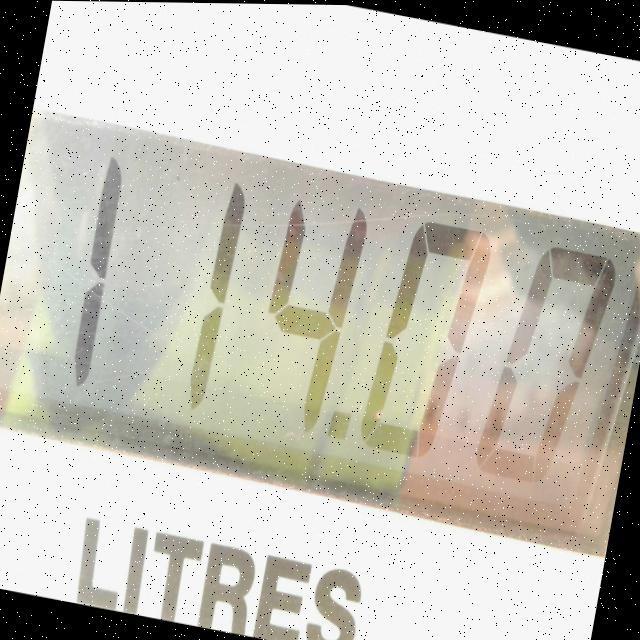.: (314, 382, 367, 473)
0: (342, 181, 514, 497), (468, 225, 623, 516)
1: (159, 159, 290, 440), (38, 131, 164, 414)
4: (235, 182, 374, 452)
